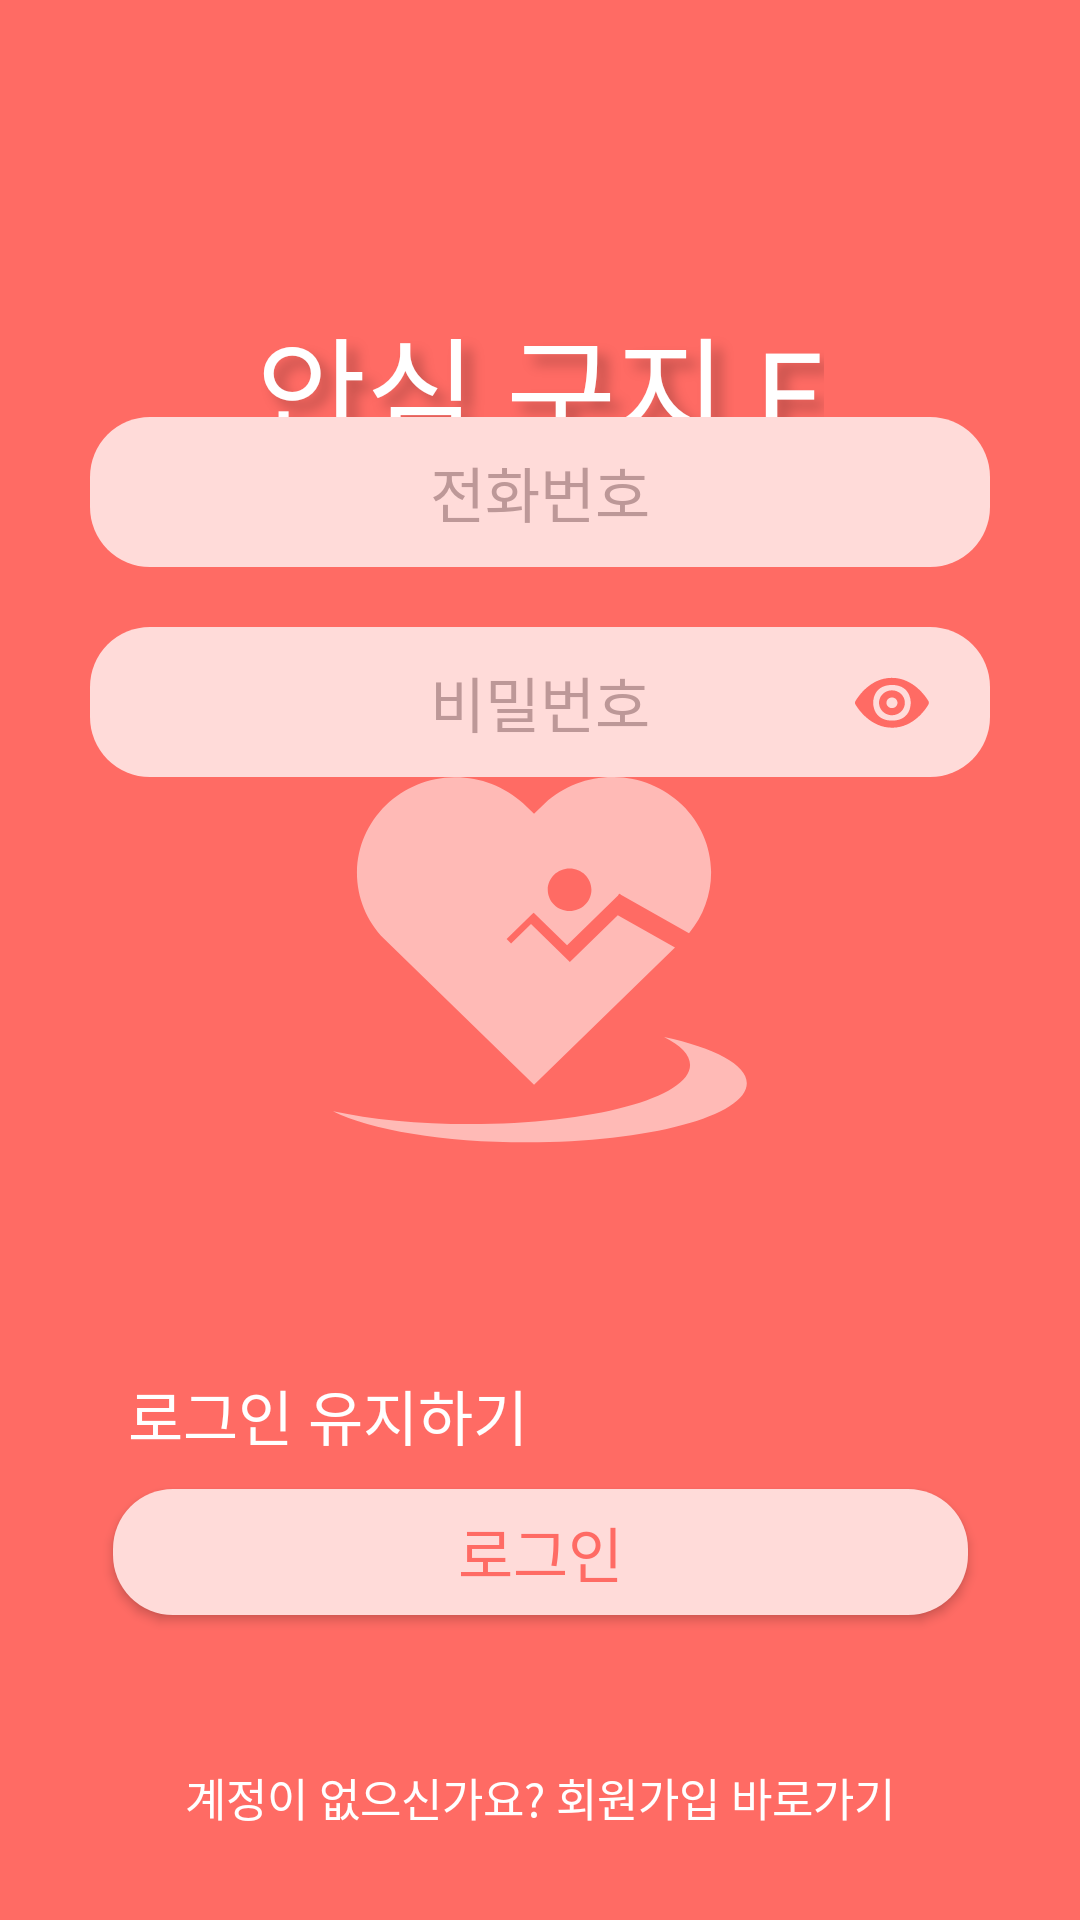

Locate icon controls on the screen. Image size 1080×1920, boxes as BBox(x1, y1, x2, y2).
select switch show password: BBox(855, 677, 929, 728)
